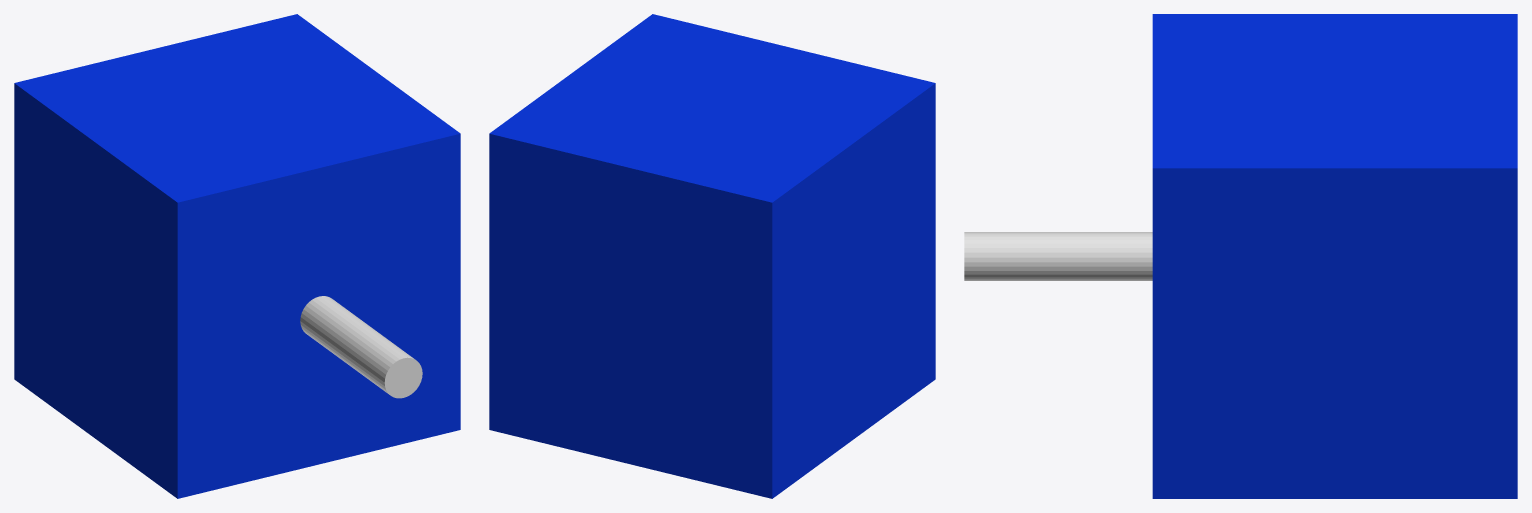
File: Turret Shooter.fbx
3 views of the same model, side by side, from view 1: azimuth 30°, elevation 25°; view 2: azimuth 150°, elevation 25°; view 3: azimuth 270°, elevation 25° (orthographic). The views are drawn at different scales.
Parts seen in each view (by area): view 1: Turret Body.001, Gun.001; view 2: Turret Body.001; view 3: Turret Body.001, Gun.001.
Part boxes in pixels (x1,y1,x2,y2): Turret Body.001: [14, 14, 460, 498]; Gun.001: [300, 296, 422, 398]; Turret Body.001: [489, 14, 935, 498]; Turret Body.001: [1152, 14, 1517, 498]; Gun.001: [964, 232, 1152, 280].
Bounding box in the file's own units: 2 × 2 × 3.03.
